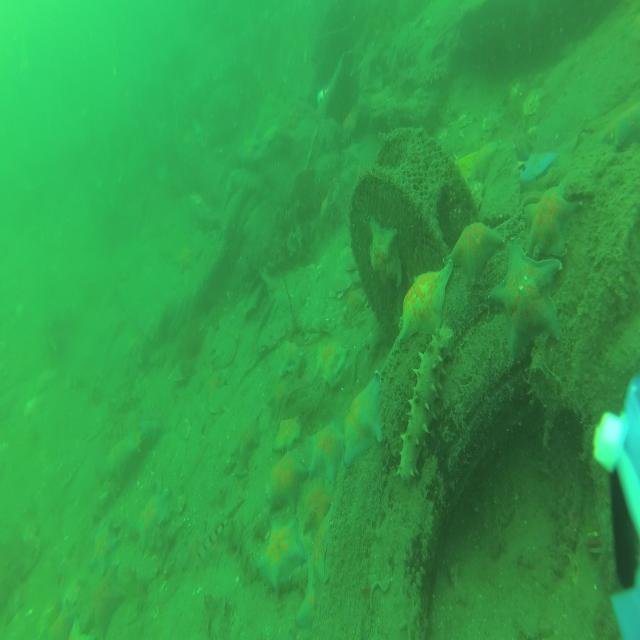holothurian: (395, 324, 454, 482)
scallop: (217, 332, 235, 370), (522, 88, 546, 116), (482, 113, 503, 132)
starfish: (489, 246, 563, 365), (398, 258, 452, 344), (523, 184, 583, 254), (341, 373, 383, 470), (93, 422, 160, 481), (446, 220, 506, 285), (257, 520, 307, 596), (80, 569, 124, 637), (264, 452, 306, 518), (132, 487, 172, 552), (307, 419, 344, 488), (368, 215, 402, 287), (455, 139, 498, 190), (601, 105, 640, 153), (160, 239, 203, 275), (231, 415, 260, 465), (315, 505, 334, 580), (314, 340, 346, 384), (294, 564, 317, 625), (91, 524, 117, 575), (277, 338, 304, 379), (274, 414, 300, 456), (342, 285, 369, 323)
